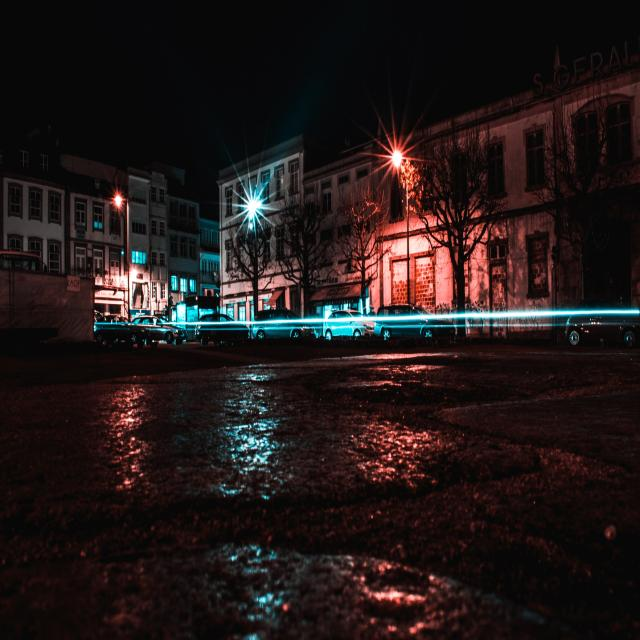Street Light: (392, 150, 411, 311), (114, 194, 130, 328), (247, 196, 260, 324)
